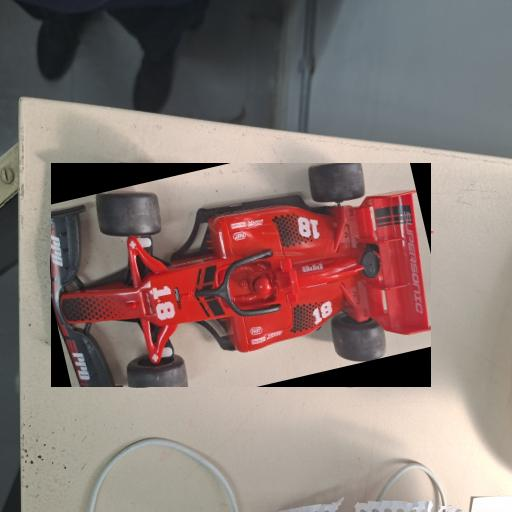carro: (51, 164, 431, 386)
